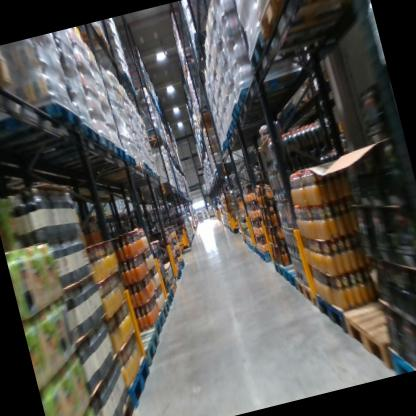pallet: (240, 2, 366, 75), (339, 288, 416, 381), (0, 92, 90, 154), (14, 117, 109, 173), (255, 0, 369, 46), (232, 68, 316, 125), (310, 278, 363, 348), (110, 351, 159, 408), (58, 132, 120, 175), (123, 325, 165, 370), (69, 24, 116, 60), (292, 269, 321, 313), (95, 151, 139, 180), (90, 142, 129, 173), (386, 338, 416, 375), (89, 396, 137, 416), (141, 311, 170, 344), (281, 259, 303, 291), (159, 287, 178, 309), (155, 297, 172, 320), (229, 100, 242, 129), (273, 254, 287, 280), (126, 157, 145, 176), (166, 279, 182, 301), (169, 264, 185, 285), (135, 155, 151, 176), (144, 130, 164, 146), (253, 240, 270, 258), (257, 247, 273, 266), (227, 118, 238, 136), (144, 163, 155, 179), (225, 126, 236, 141)
